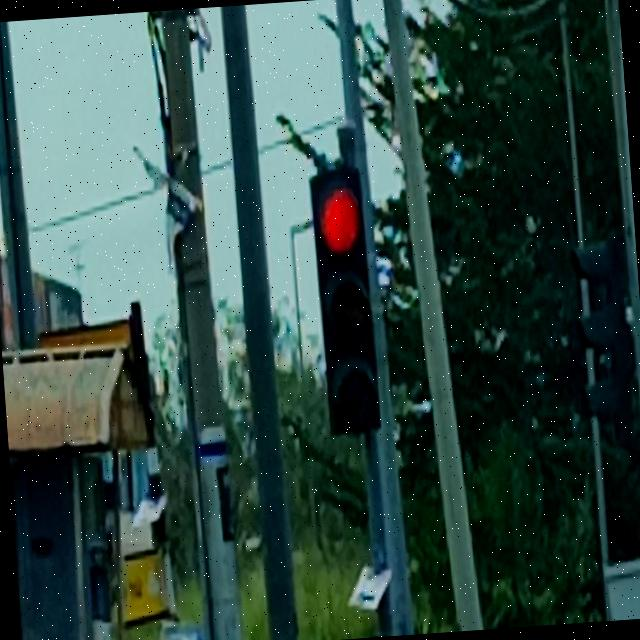red_light: (308, 169, 381, 437)
